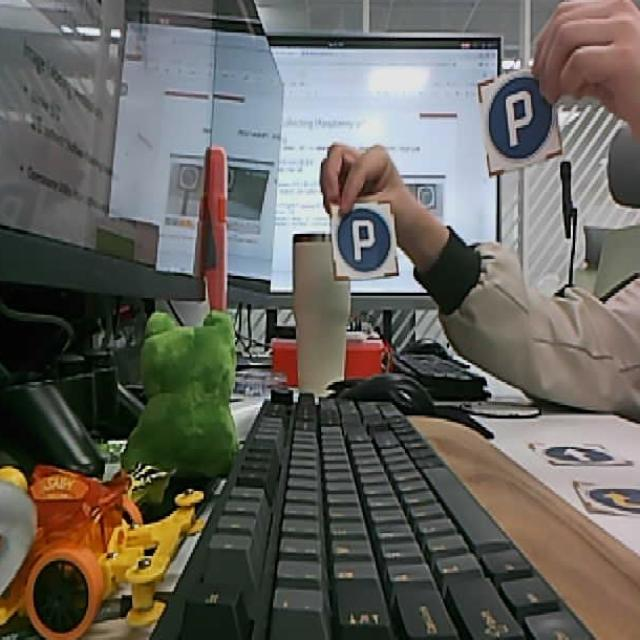parking: (478, 69, 566, 174), (328, 202, 401, 279)
